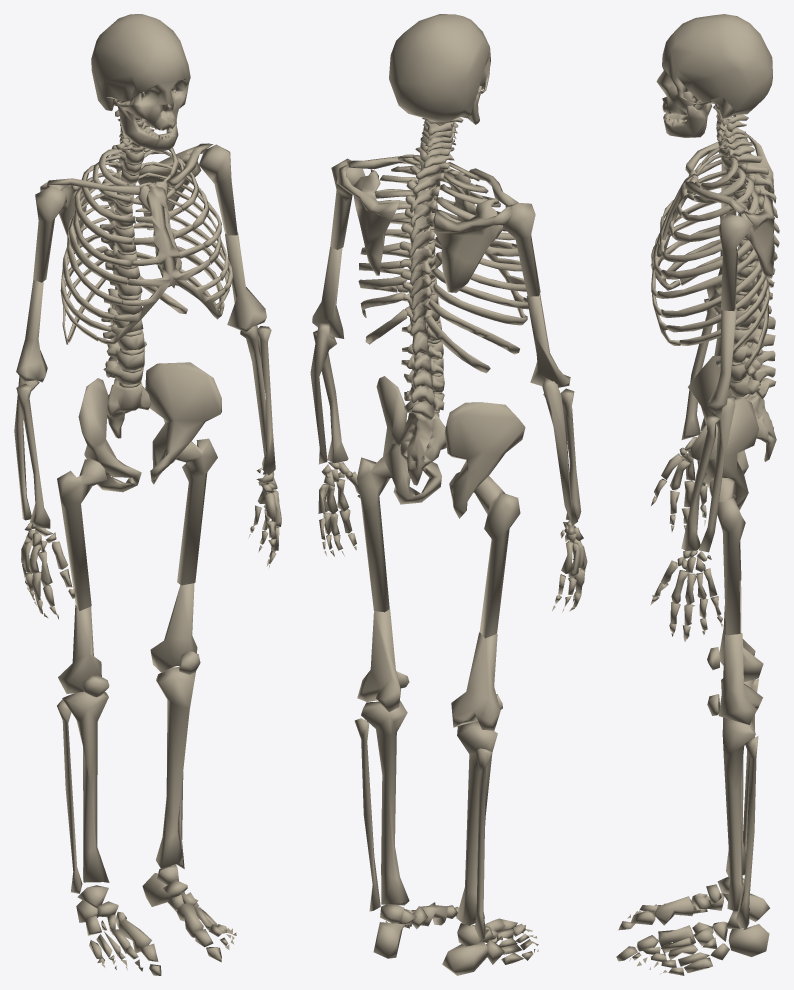
The model's file is pediatric_adolescent_male.skeletal.LOD3.glb.
3 views of the same model, side by side, from view 1: azimuth 30°, elevation 25°; view 2: azimuth 150°, elevation 25°; view 3: azimuth 270°, elevation 25° (orthographic). The views are drawn at different scales.
Parts seen in each view (by area): view 1: PEDIATRIC.ADOLESCENT.MALE.SKELETAL.RIBS_CORTICAL, PEDIATRIC.ADOLESCENT.MALE.SKELETAL.CRANIUM_CORTICAL, PEDIATRIC.ADOLESCENT.MALE.SKELETAL.PELVIS_CORTICAL, PEDIATRIC.ADOLESCENT.MALE.SKELETAL.TIBIAE_CORTICAL, PEDIATRIC.ADOLESCENT.MALE.SKELETAL.FEMORA_UPPER_CORTICAL, PEDIATRIC.ADOLESCENT.MALE.SKELETAL.ANKLES_AND_FOOT_CORTICAL, PEDIATRIC.ADOLESCENT.MALE.SKELETAL.CARTILAGE_TRUNK, PEDIATRIC.ADOLESCENT.MALE.SKELETAL.FEMORA_LOWER_CORTICAL, PEDIATRIC.ADOLESCENT.MALE.SKELETAL.WRISTS_AND_HAND_BONES_COR, PEDIATRIC.ADOLESCENT.MALE.SKELETAL.HUMERI_LOWER_CORTICAL, PEDIATRIC.ADOLESCENT.MALE.SKELETAL.HUMERI_UPPER_CORTICAL, PEDIATRIC.ADOLESCENT.MALE.SKELETAL.RADII_CORTICAL (+10 smaller); view 2: PEDIATRIC.ADOLESCENT.MALE.SKELETAL.RIBS_CORTICAL, PEDIATRIC.ADOLESCENT.MALE.SKELETAL.CRANIUM_CORTICAL, PEDIATRIC.ADOLESCENT.MALE.SKELETAL.PELVIS_CORTICAL, PEDIATRIC.ADOLESCENT.MALE.SKELETAL.TIBIAE_CORTICAL, PEDIATRIC.ADOLESCENT.MALE.SKELETAL.FEMORA_UPPER_CORTICAL, PEDIATRIC.ADOLESCENT.MALE.SKELETAL.SCAPULAE_CORTICAL, PEDIATRIC.ADOLESCENT.MALE.SKELETAL.FEMORA_LOWER_CORTICAL, PEDIATRIC.ADOLESCENT.MALE.SKELETAL.ANKLES_AND_FOOT_CORTICAL, PEDIATRIC.ADOLESCENT.MALE.SKELETAL.THORACIC_SPINE_CORTICAL, PEDIATRIC.ADOLESCENT.MALE.SKELETAL.WRISTS_AND_HAND_BONES_COR, PEDIATRIC.ADOLESCENT.MALE.SKELETAL.ULNAE_CORTICAL, PEDIATRIC.ADOLESCENT.MALE.SKELETAL.HUMERI_LOWER_CORTICAL (+8 smaller); view 3: PEDIATRIC.ADOLESCENT.MALE.SKELETAL.CRANIUM_CORTICAL, PEDIATRIC.ADOLESCENT.MALE.SKELETAL.RIBS_CORTICAL, PEDIATRIC.ADOLESCENT.MALE.SKELETAL.ANKLES_AND_FOOT_CORTICAL, PEDIATRIC.ADOLESCENT.MALE.SKELETAL.WRISTS_AND_HAND_BONES_COR, PEDIATRIC.ADOLESCENT.MALE.SKELETAL.PELVIS_CORTICAL, PEDIATRIC.ADOLESCENT.MALE.SKELETAL.TIBIAE_CORTICAL, PEDIATRIC.ADOLESCENT.MALE.SKELETAL.FEMORA_LOWER_CORTICAL, PEDIATRIC.ADOLESCENT.MALE.SKELETAL.FEMORA_UPPER_CORTICAL, PEDIATRIC.ADOLESCENT.MALE.SKELETAL.LUMBAR_SPINE_CORTICAL, PEDIATRIC.ADOLESCENT.MALE.SKELETAL.RADII_CORTICAL, PEDIATRIC.ADOLESCENT.MALE.SKELETAL.THORACIC_SPINE_CORTICAL, PEDIATRIC.ADOLESCENT.MALE.SKELETAL.CARTILAGE_TRUNK (+10 smaller).
Part boxes in pixels (left/top/right/bottom): PEDIATRIC.ADOLESCENT.MALE.SKELETAL.RIBS_CORTICAL: left=60, top=147, right=232, bottom=344; PEDIATRIC.ADOLESCENT.MALE.SKELETAL.CRANIUM_CORTICAL: left=91, top=14, right=190, bottom=130; PEDIATRIC.ADOLESCENT.MALE.SKELETAL.PELVIS_CORTICAL: left=78, top=362, right=221, bottom=492; PEDIATRIC.ADOLESCENT.MALE.SKELETAL.TIBIAE_CORTICAL: left=62, top=666, right=195, bottom=882; PEDIATRIC.ADOLESCENT.MALE.SKELETAL.FEMORA_UPPER_CORTICAL: left=57, top=438, right=217, bottom=610; PEDIATRIC.ADOLESCENT.MALE.SKELETAL.ANKLES_AND_FOOT_CORTICAL: left=76, top=864, right=236, bottom=975; PEDIATRIC.ADOLESCENT.MALE.SKELETAL.CARTILAGE_TRUNK: left=97, top=119, right=225, bottom=387; PEDIATRIC.ADOLESCENT.MALE.SKELETAL.FEMORA_LOWER_CORTICAL: left=58, top=583, right=197, bottom=693; PEDIATRIC.ADOLESCENT.MALE.SKELETAL.WRISTS_AND_HAND_BONES_COR: left=21, top=467, right=281, bottom=619; PEDIATRIC.ADOLESCENT.MALE.SKELETAL.HUMERI_LOWER_CORTICAL: left=16, top=232, right=266, bottom=382; PEDIATRIC.ADOLESCENT.MALE.SKELETAL.HUMERI_UPPER_CORTICAL: left=33, top=144, right=237, bottom=282; PEDIATRIC.ADOLESCENT.MALE.SKELETAL.RADII_CORTICAL: left=16, top=326, right=275, bottom=528; PEDIATRIC.ADOLESCENT.MALE.SKELETAL.RIBS_CORTICAL: left=358, top=154, right=528, bottom=373; PEDIATRIC.ADOLESCENT.MALE.SKELETAL.CRANIUM_CORTICAL: left=389, top=14, right=490, bottom=121; PEDIATRIC.ADOLESCENT.MALE.SKELETAL.PELVIS_CORTICAL: left=376, top=376, right=525, bottom=518; PEDIATRIC.ADOLESCENT.MALE.SKELETAL.TIBIAE_CORTICAL: left=361, top=701, right=497, bottom=925; PEDIATRIC.ADOLESCENT.MALE.SKELETAL.FEMORA_UPPER_CORTICAL: left=357, top=457, right=520, bottom=638; PEDIATRIC.ADOLESCENT.MALE.SKELETAL.SCAPULAE_CORTICAL: left=336, top=164, right=512, bottom=292; PEDIATRIC.ADOLESCENT.MALE.SKELETAL.FEMORA_LOWER_CORTICAL: left=357, top=609, right=500, bottom=730; PEDIATRIC.ADOLESCENT.MALE.SKELETAL.ANKLES_AND_FOOT_CORTICAL: left=373, top=902, right=538, bottom=975; PEDIATRIC.ADOLESCENT.MALE.SKELETAL.THORACIC_SPINE_CORTICAL: left=399, top=155, right=449, bottom=336; PEDIATRIC.ADOLESCENT.MALE.SKELETAL.WRISTS_AND_HAND_BONES_COR: left=318, top=462, right=587, bottom=612; PEDIATRIC.ADOLESCENT.MALE.SKELETAL.ULNAE_CORTICAL: left=310, top=323, right=577, bottom=525; PEDIATRIC.ADOLESCENT.MALE.SKELETAL.HUMERI_LOWER_CORTICAL: left=312, top=247, right=570, bottom=387; PEDIATRIC.ADOLESCENT.MALE.SKELETAL.CRANIUM_CORTICAL: left=656, top=14, right=772, bottom=119; PEDIATRIC.ADOLESCENT.MALE.SKELETAL.RIBS_CORTICAL: left=656, top=147, right=769, bottom=370; PEDIATRIC.ADOLESCENT.MALE.SKELETAL.ANKLES_AND_FOOT_CORTICAL: left=616, top=876, right=769, bottom=975; PEDIATRIC.ADOLESCENT.MALE.SKELETAL.WRISTS_AND_HAND_BONES_COR: left=650, top=437, right=722, bottom=641; PEDIATRIC.ADOLESCENT.MALE.SKELETAL.PELVIS_CORTICAL: left=688, top=356, right=758, bottom=510; PEDIATRIC.ADOLESCENT.MALE.SKELETAL.TIBIAE_CORTICAL: left=721, top=678, right=755, bottom=911; PEDIATRIC.ADOLESCENT.MALE.SKELETAL.FEMORA_LOWER_CORTICAL: left=718, top=580, right=763, bottom=724; PEDIATRIC.ADOLESCENT.MALE.SKELETAL.FEMORA_UPPER_CORTICAL: left=709, top=477, right=745, bottom=635; PEDIATRIC.ADOLESCENT.MALE.SKELETAL.LUMBAR_SPINE_CORTICAL: left=729, top=300, right=776, bottom=398; PEDIATRIC.ADOLESCENT.MALE.SKELETAL.RADII_CORTICAL: left=681, top=298, right=719, bottom=550; PEDIATRIC.ADOLESCENT.MALE.SKELETAL.THORACIC_SPINE_CORTICAL: left=722, top=153, right=779, bottom=313; PEDIATRIC.ADOLESCENT.MALE.SKELETAL.CARTILAGE_TRUNK: left=651, top=118, right=752, bottom=399.
Bounding box in the file's own units: 0.4785 × 1.66 × 0.2643.
